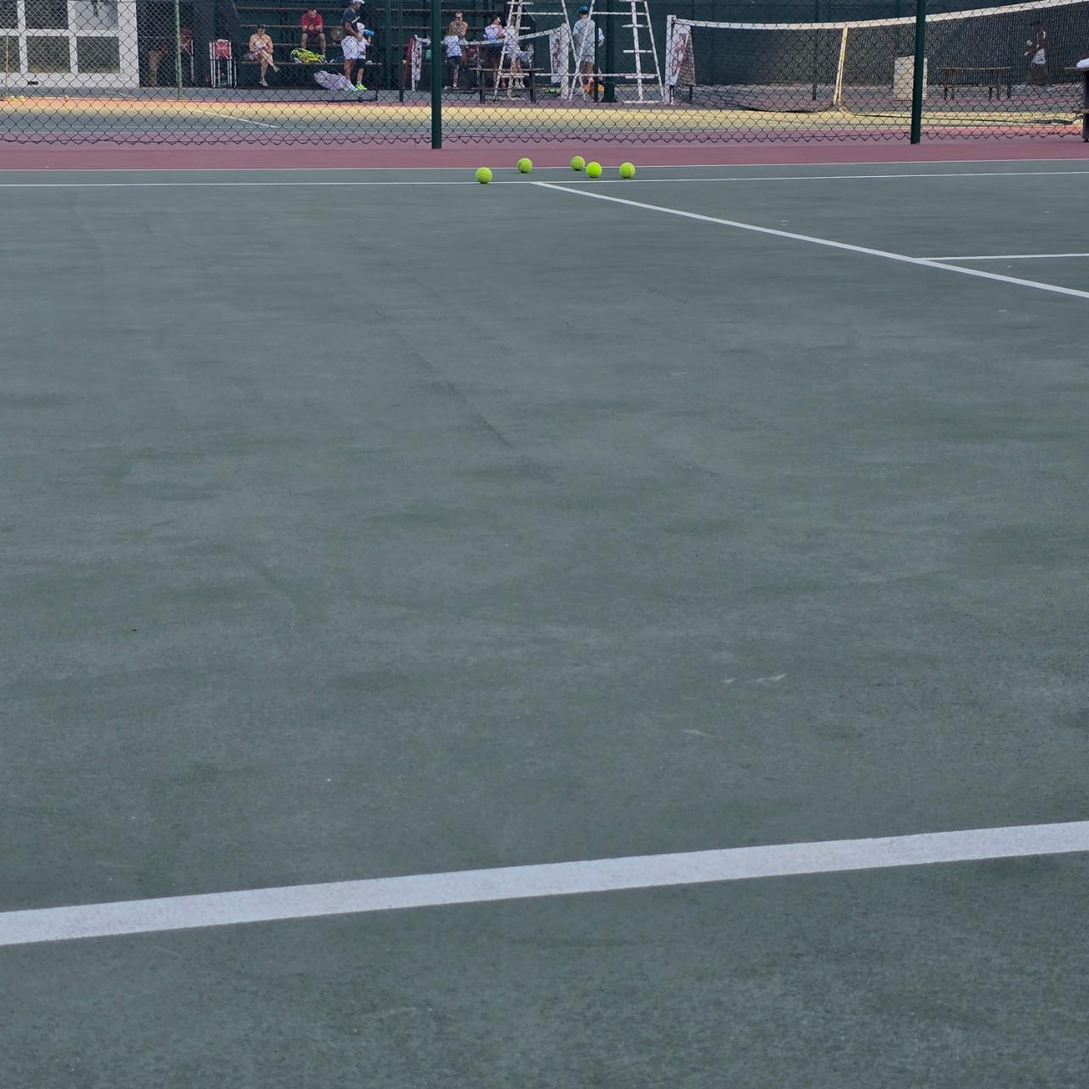tennis-ball: (476, 164, 494, 183), (620, 160, 636, 178), (587, 160, 603, 177), (571, 153, 587, 170), (518, 156, 534, 173)
